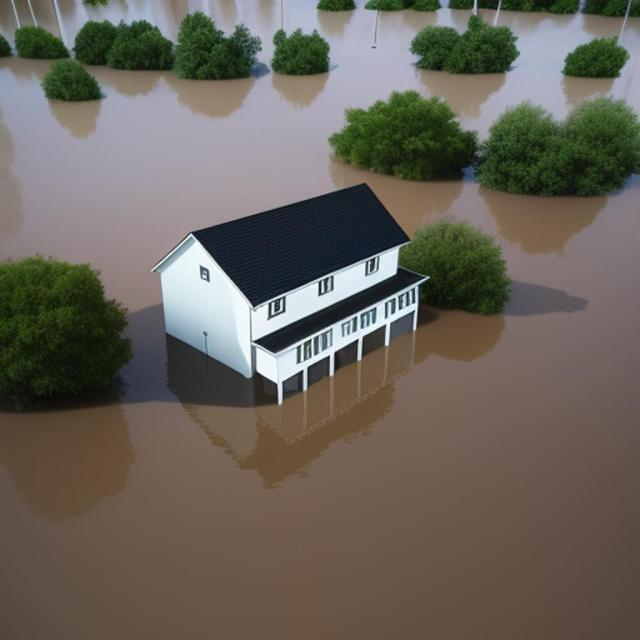flood: (0, 0, 640, 640), (58, 0, 281, 64), (31, 0, 57, 32), (0, 0, 14, 42), (15, 0, 29, 23)
house: (150, 183, 434, 406)
